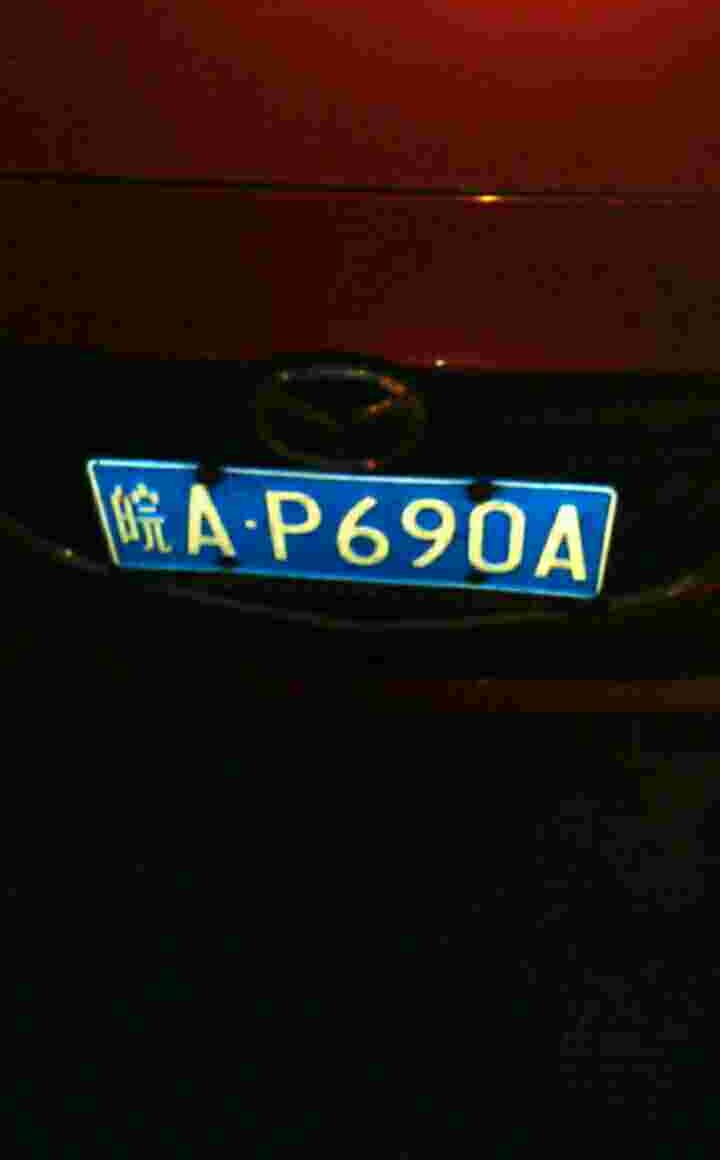license_plate: (84, 465, 631, 604)
